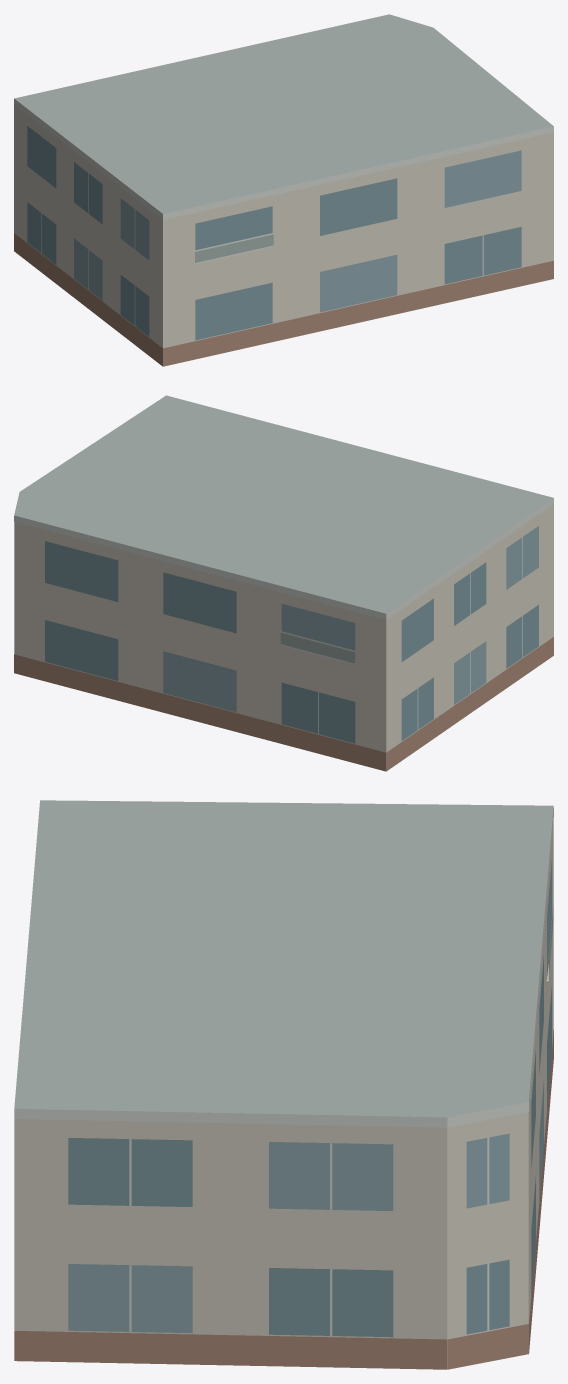
Rendered from survey-upis-32652735.glb.
The picture shows the model from 3 angles, top to bottom: view 1: azimuth 30°, elevation 25°; view 2: azimuth 150°, elevation 25°; view 3: azimuth 270°, elevation 25°; orthographic projection. The views are drawn at different scales.
Visible parts, largest first — view 1: survey-upis-32652735.tmp; view 2: survey-upis-32652735.tmp; view 3: survey-upis-32652735.tmp.
Part boxes in pixels (x1,y1,x2,y2): survey-upis-32652735.tmp: [14, 14, 553, 366]; survey-upis-32652735.tmp: [14, 395, 553, 771]; survey-upis-32652735.tmp: [14, 800, 553, 1369].
Bounding box in the file's own units: 16.47 × 6.1 × 11.84.
